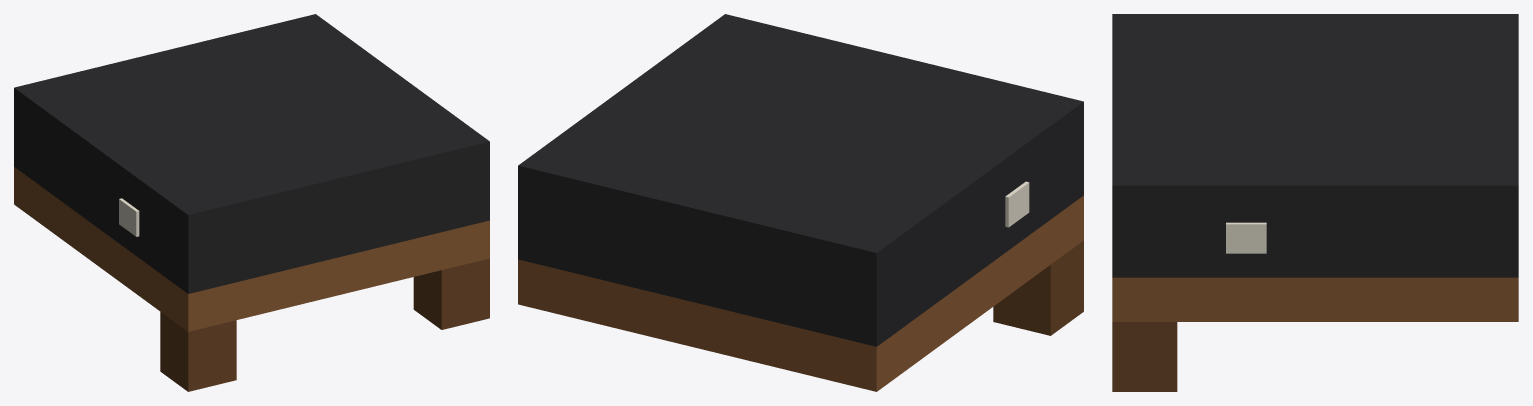
File: bed_black_foot.glb
3 renders of one model, left to right at view 1: azimuth 30°, elevation 25°; view 2: azimuth 150°, elevation 25°; view 3: azimuth 270°, elevation 25°, orthographic. The views are drawn at different scales.
Parts seen in each view (by area): view 1: body; view 2: body; view 3: body.
Boxes of the visible parts, x1=… form: body: x1=14, y1=14, x2=489, y2=391; body: x1=518, y1=14, x2=1083, y2=391; body: x1=1112, y1=14, x2=1518, y2=391.
Bounding box in the file's own units: 1.02 × 0.56 × 1.
